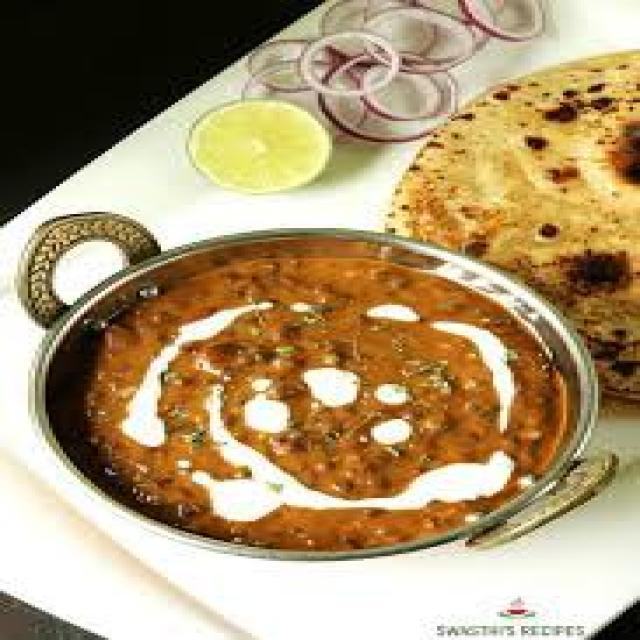chapati: (388, 51, 637, 398)
dal_makhani: (26, 229, 575, 554)
